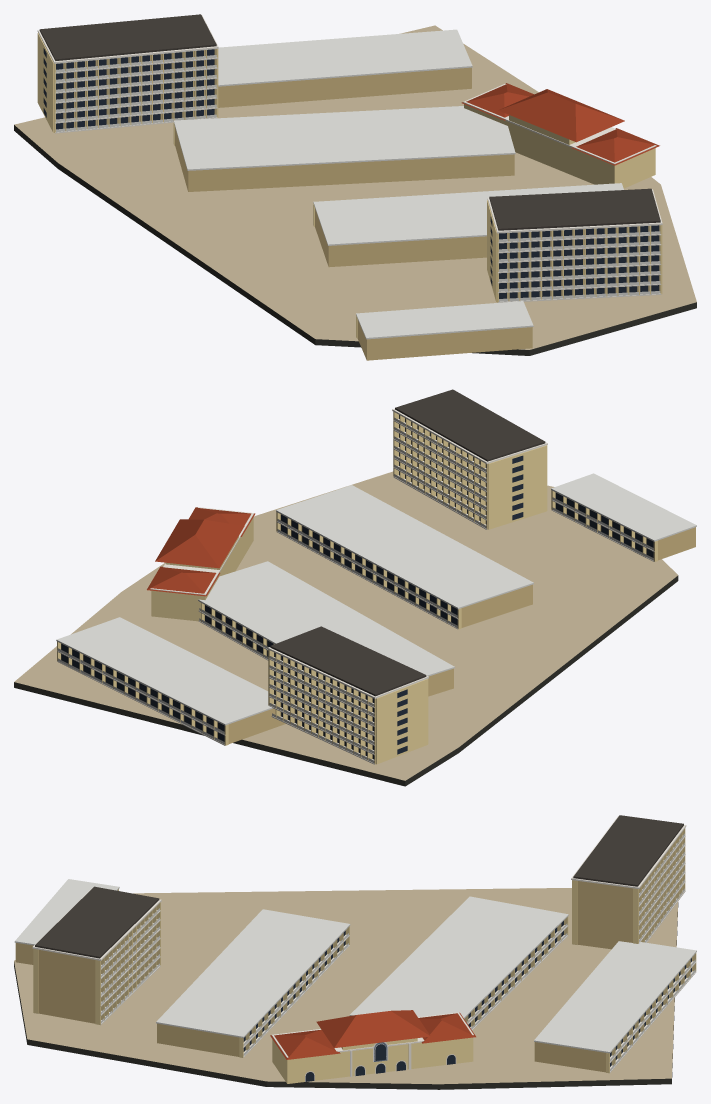
Rendered from ritz.glb.
3 renders of one model, top to bottom at view 1: azimuth 30°, elevation 25°; view 2: azimuth 150°, elevation 25°; view 3: azimuth 270°, elevation 25°, orthographic. The views are drawn at different scales.
Visible parts, largest first — view 1: ritz_lod0; view 2: ritz_lod0; view 3: ritz_lod0.
Part boxes in pixels (x1,y1,x2,y2): ritz_lod0: (14,14,696,360); ritz_lod0: (14,389,696,786); ritz_lod0: (14,815,696,1089).
Size of what is drawn, in the model's own units: 141 by 28.3 by 206.
